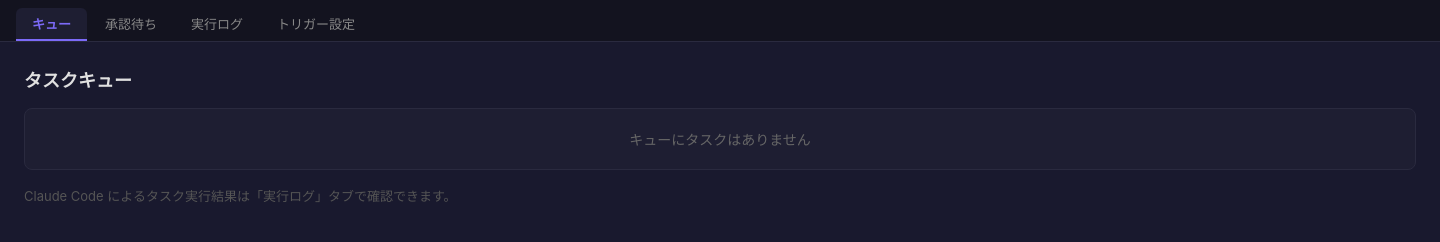
Test case: AgentControlScreen › 承認待ち タブに切り替えできる
What coordinates should you click on to do the following:
click the button "承認待ち"
I would click on:
 (131, 24)
Its box is [89, 8, 173, 41].
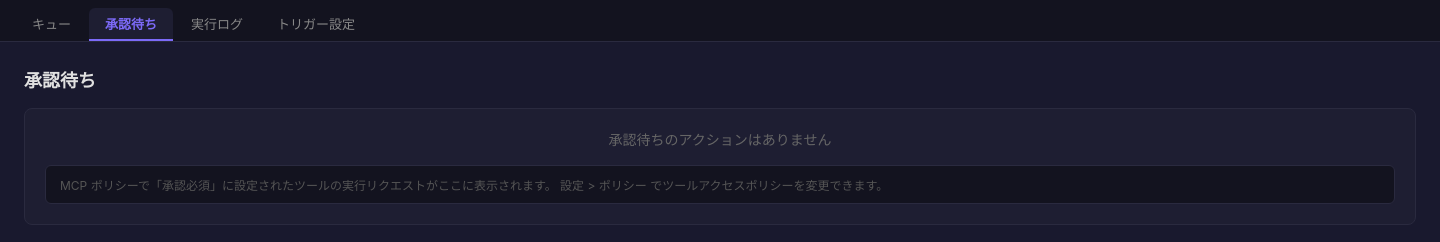
Check: the text "承認待ちのアクションはありません" is shown, box [608, 131, 831, 148]
Check: the text "MCP ポリシー" is shown, box [60, 178, 888, 193]
